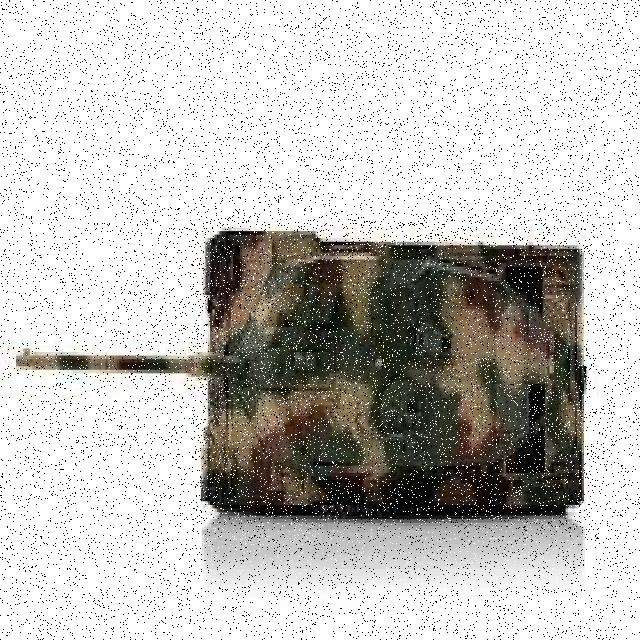MIL_MBT: (192, 219, 594, 524)
